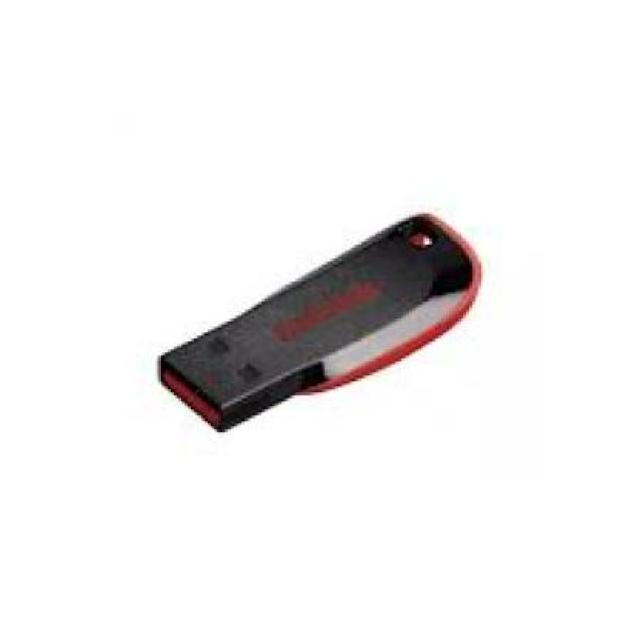Flashdisk: (154, 209, 483, 436)
